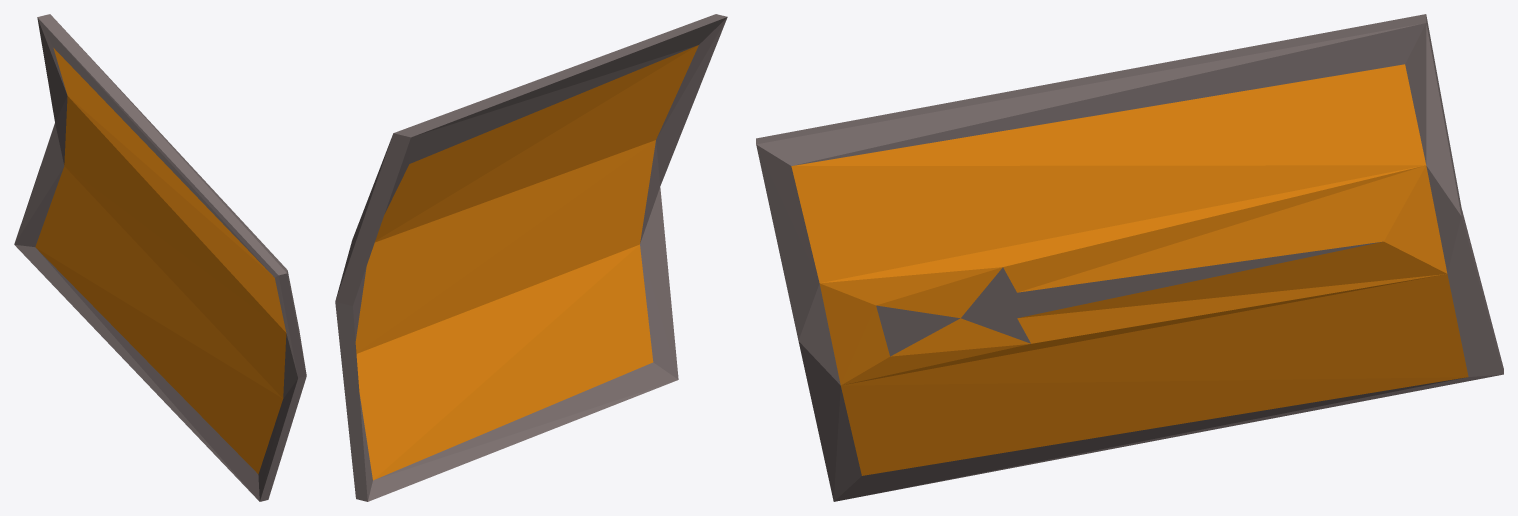
The model's file is npc_world_king_arthur_7.obj.
The picture shows the model from 3 angles, left to right: view 1: azimuth 30°, elevation 25°; view 2: azimuth 150°, elevation 25°; view 3: azimuth 270°, elevation 25°; orthographic projection. The views are drawn at different scales.
Bounding box in the file's own units: 0.0938 × 0.5781 × 0.8281.
